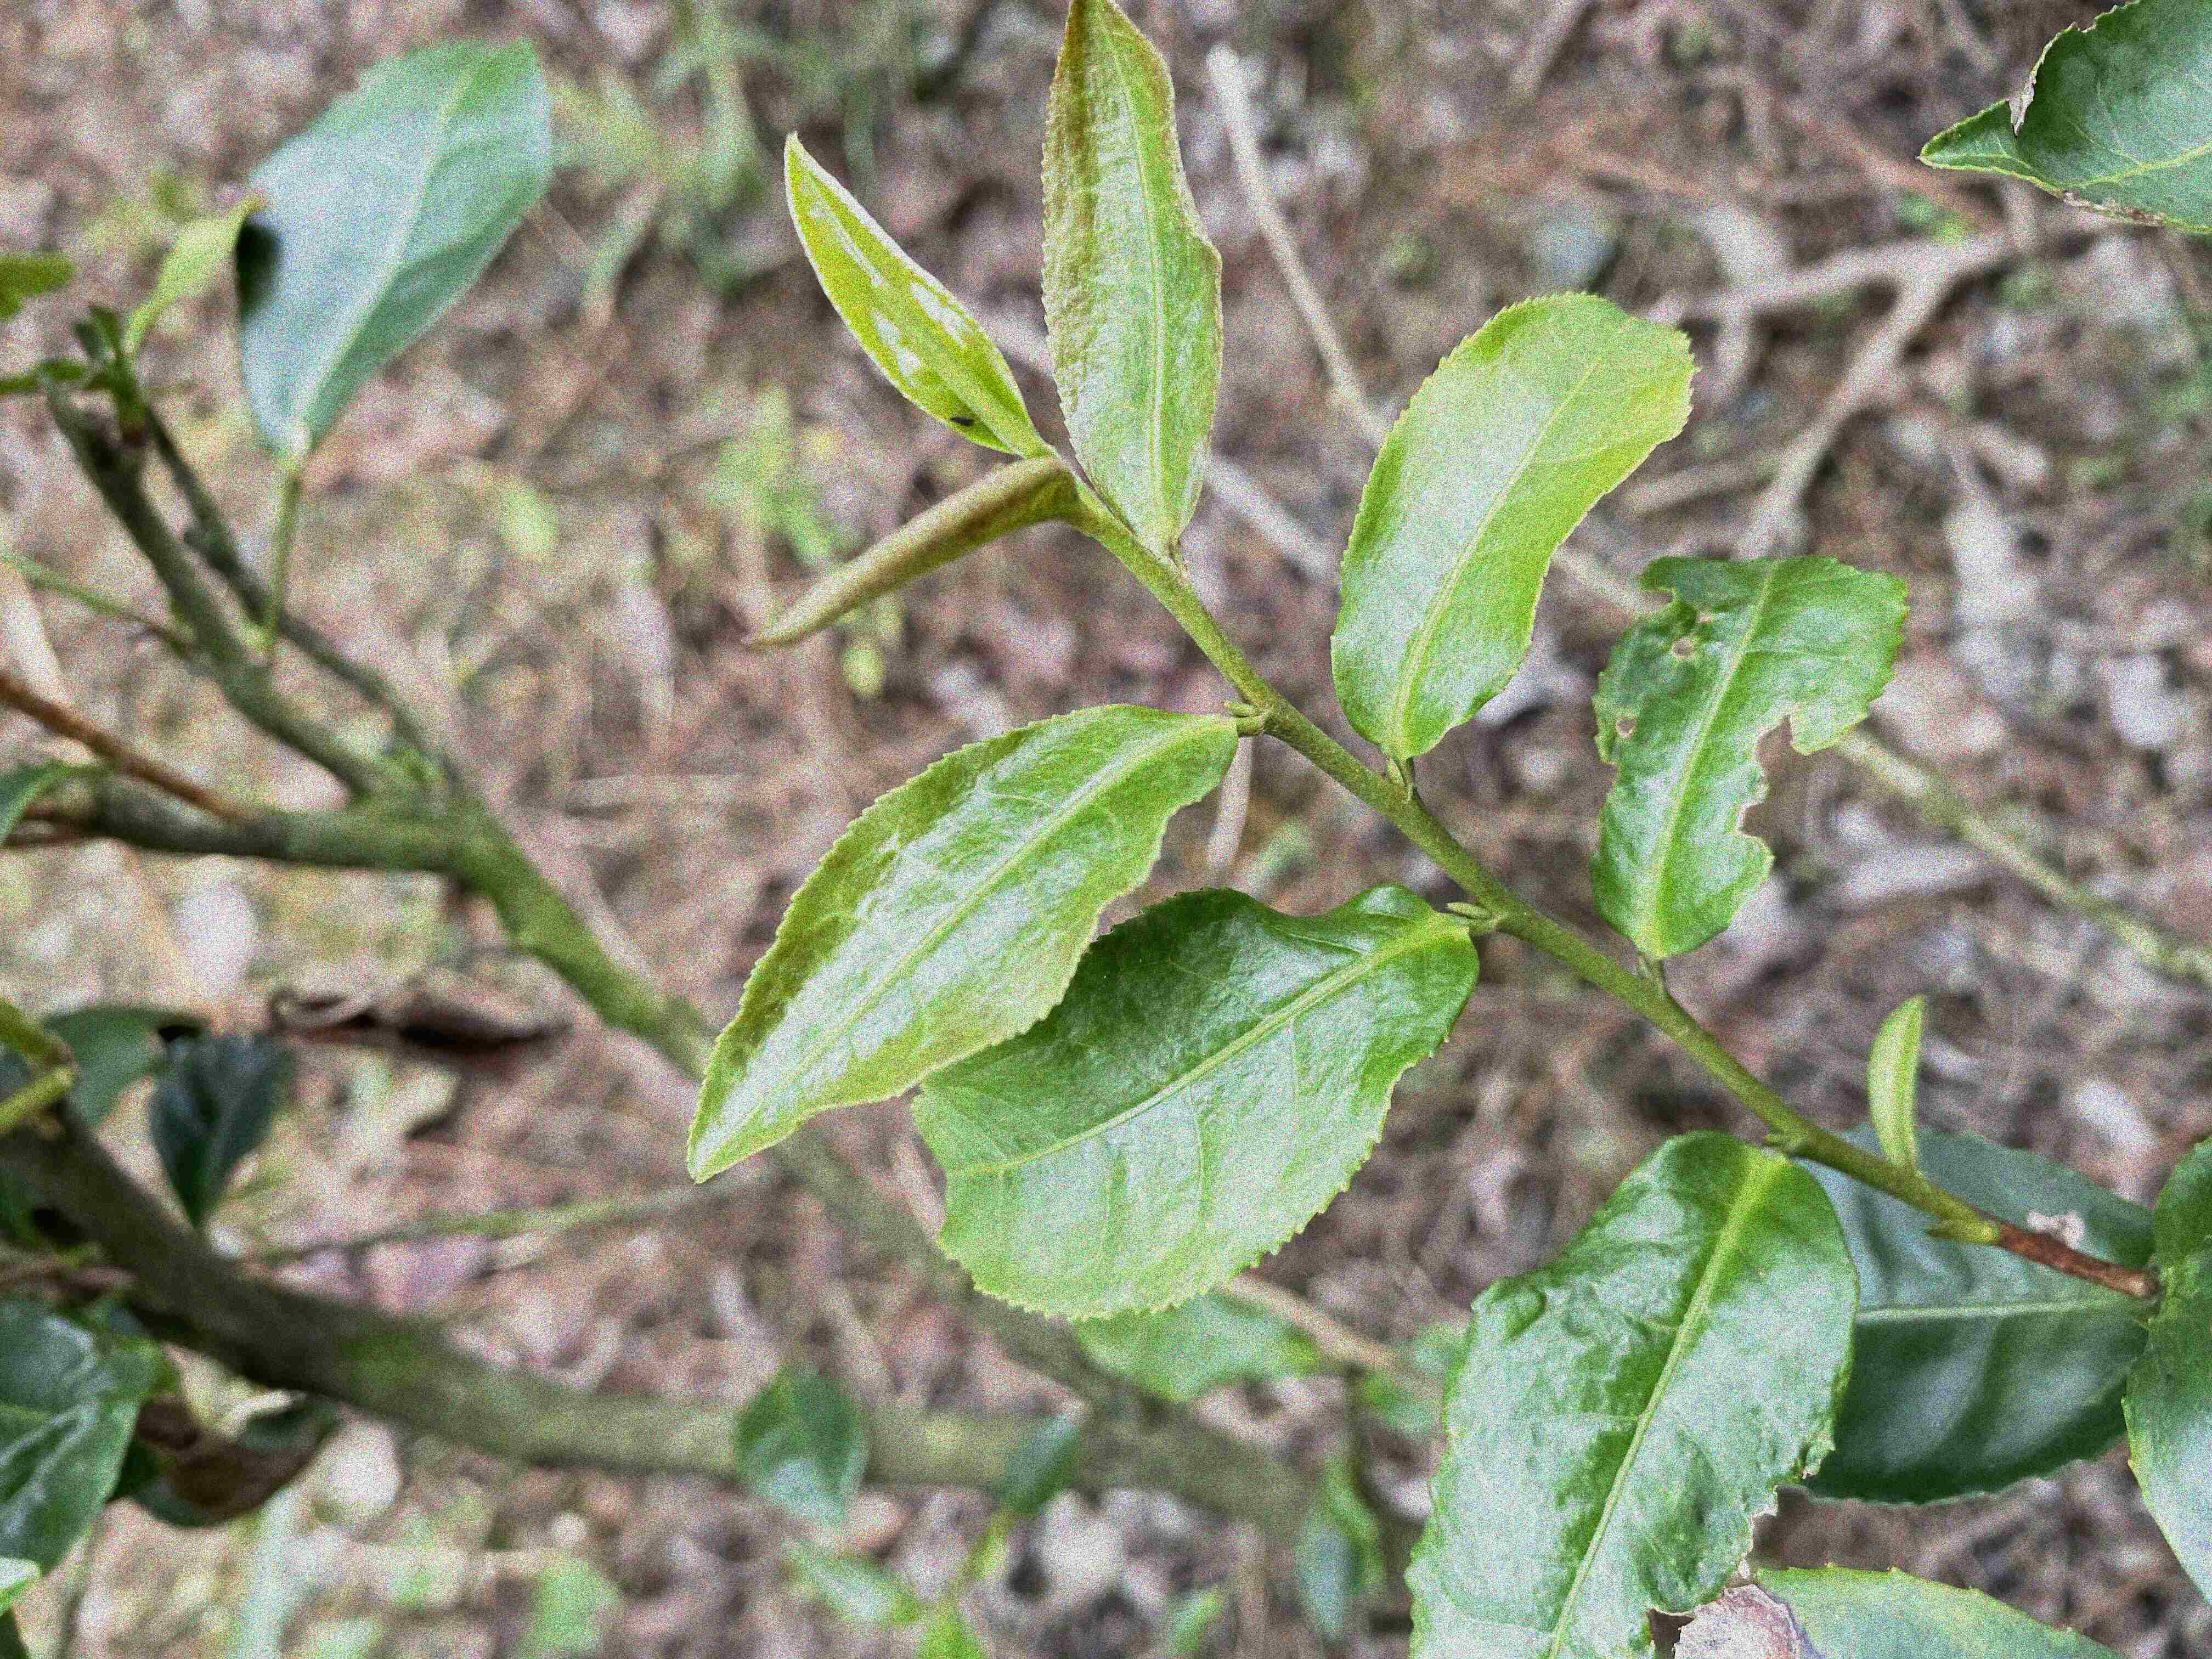chihuo_high: (1590, 549, 1918, 962)
healthy: (679, 704, 1233, 1187), (906, 884, 1480, 1323), (1329, 286, 1698, 763)
tanju_high: (1663, 1561, 2127, 1657)
tanju_low: (1042, 2, 1226, 559)
